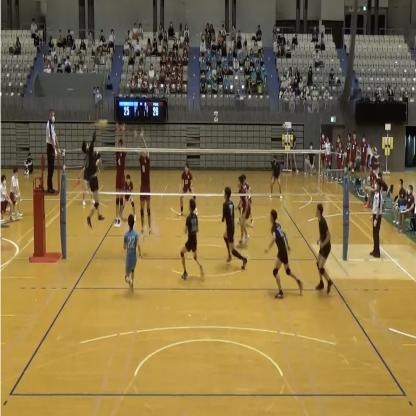spike: (80, 116, 108, 233)
